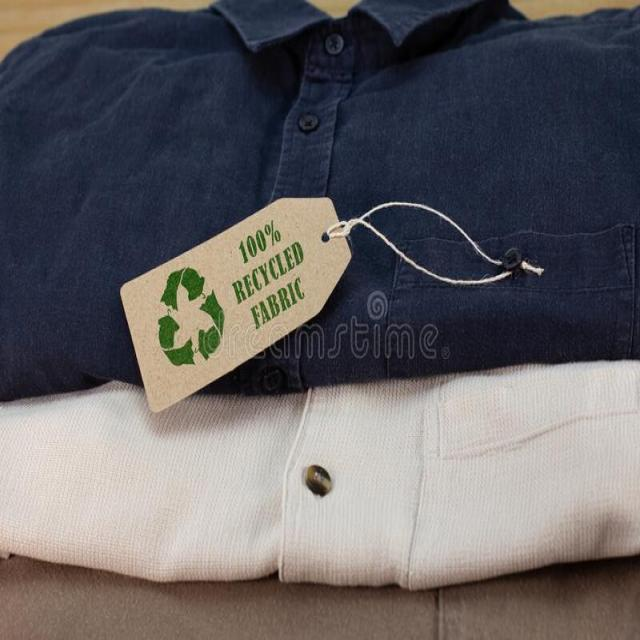clothes: (132, 127, 498, 567)
